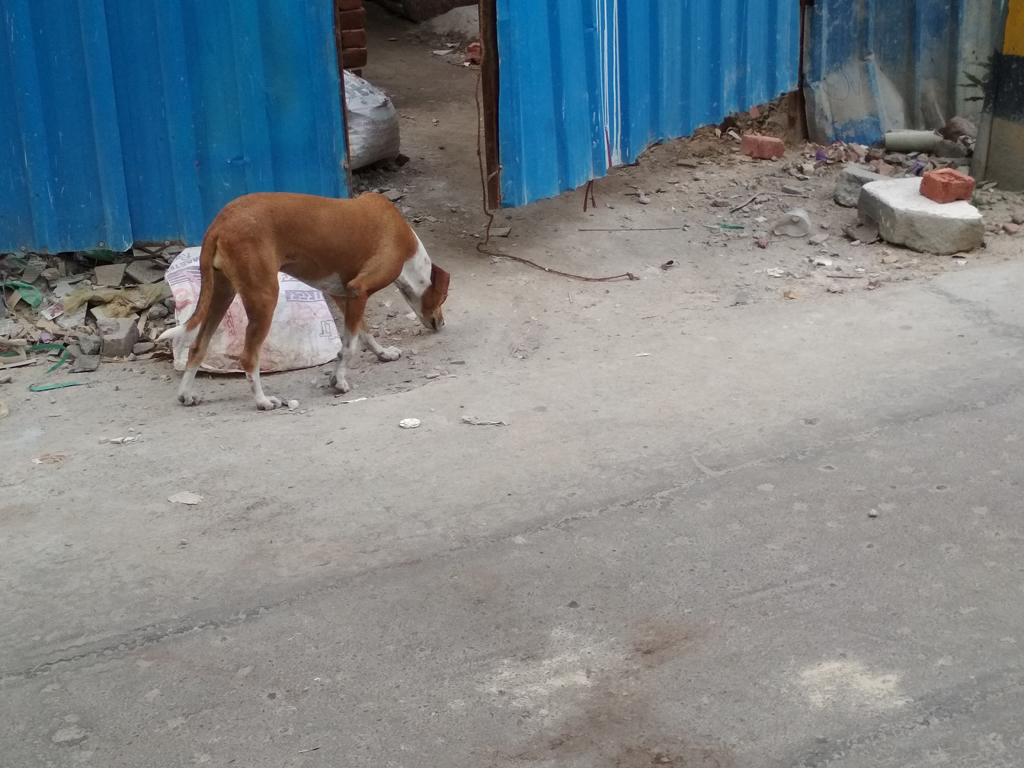dog: (155, 191, 452, 410)
